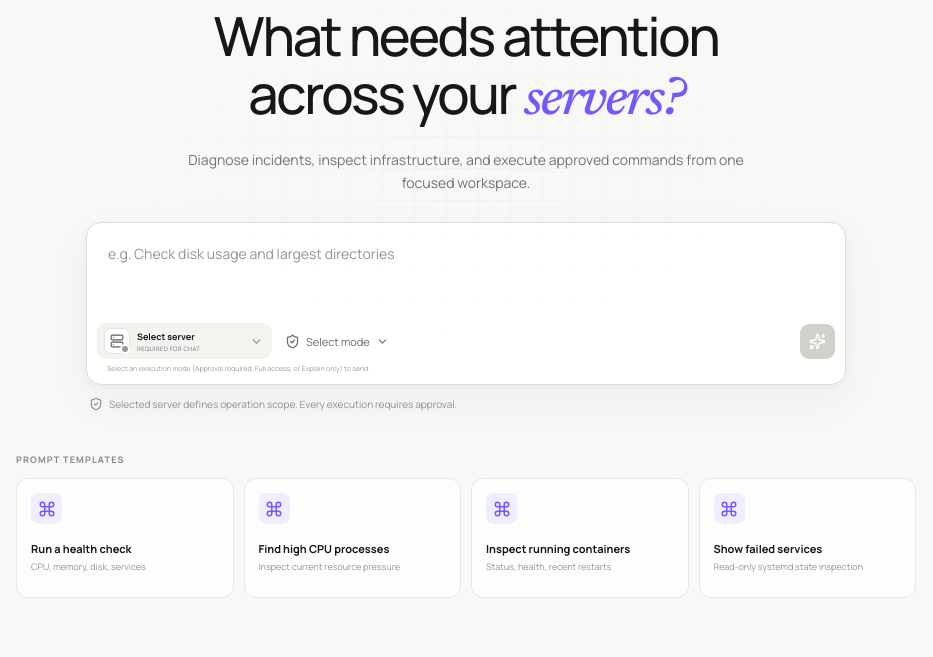
real chat workspace › shows backend 422 guard message at composer
Click the button "Select server Required for chat" at (184, 341), box [97,323,272,359]
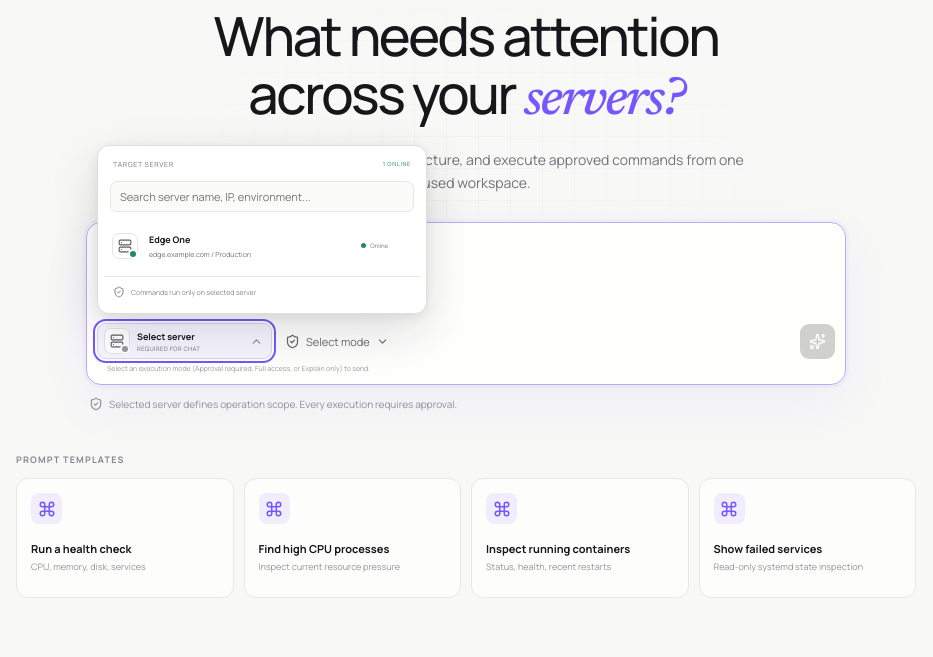
Click the option "Edge One edge.example.com / Production Online" at (170, 239), box [104,220,420,271]
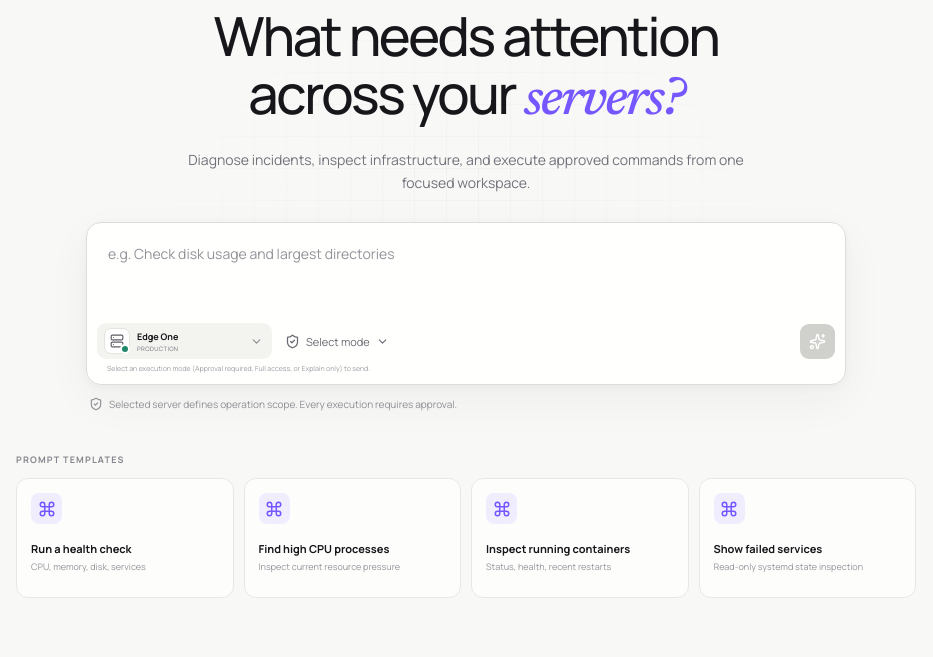
Click the button with aria-label "Execution policy" at (337, 341), box [279,324,395,358]
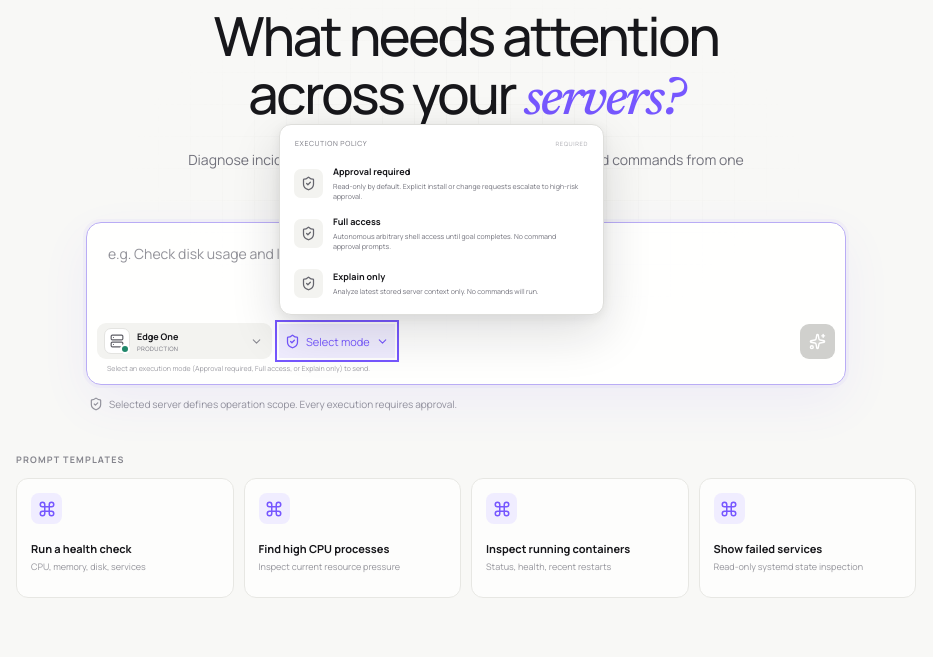
Click the option "Approval required" at (442, 183), box [286,158,597,208]
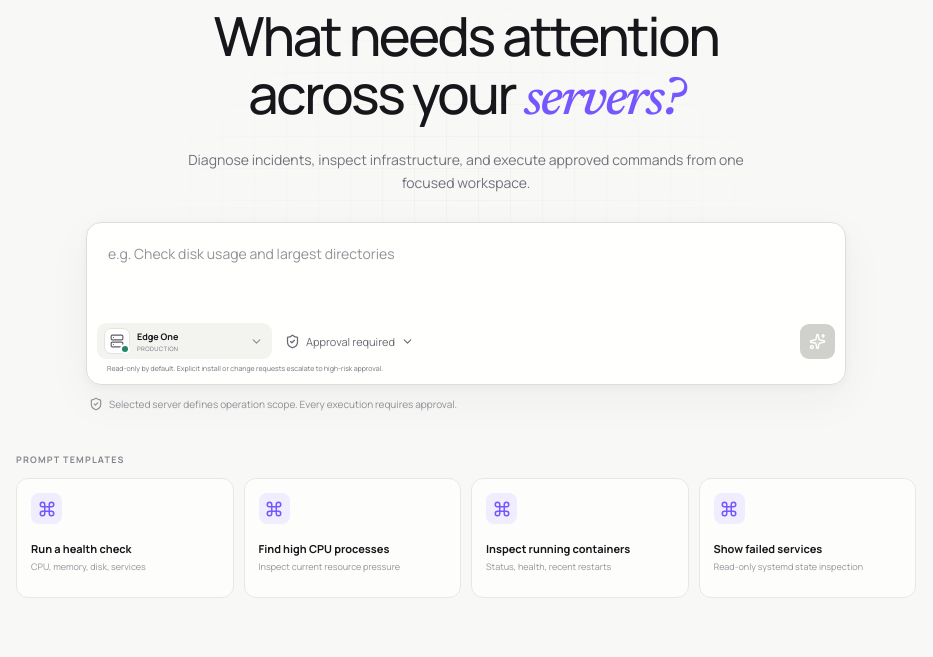
Type "unsafe prompt" into the text box named "Ask OpsAI" at (466, 276), box [97,233,835,318]
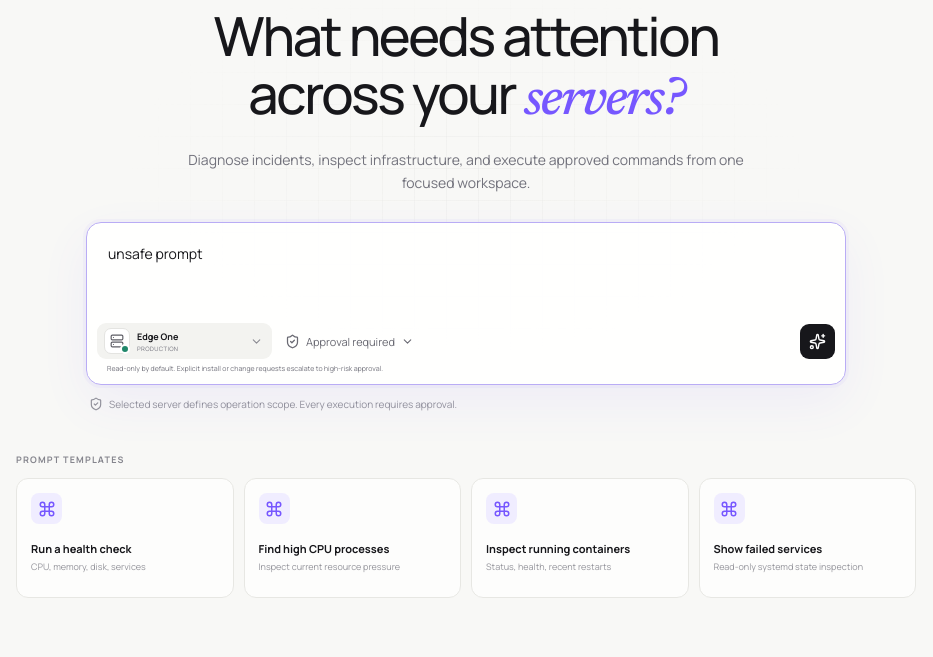
Click the button named "Send" at (818, 341), box [800,324,835,359]
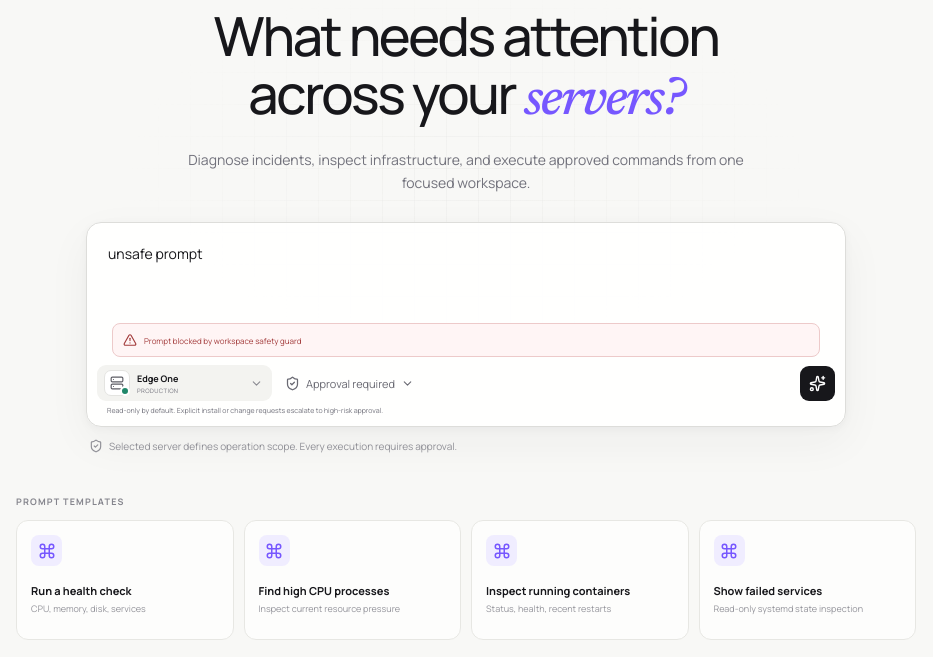
Check: the message reads "Prompt blocked by workspace safety guard", box [144,335,302,346]
